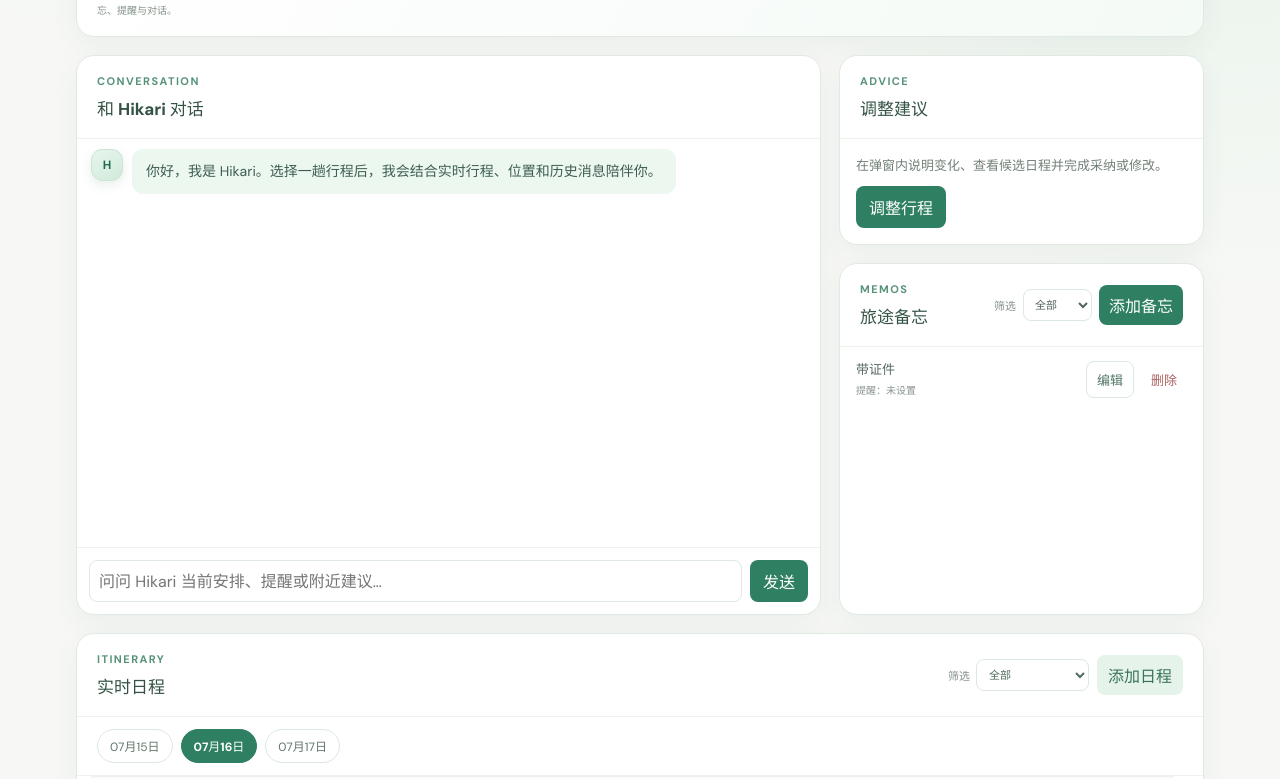
Test: Companion adjustment dialog › shows explicit deletion controls for memo and itinerary rows
(page scrolled)
Click the button "删除": (1164, 379) [1141, 362, 1187, 397]
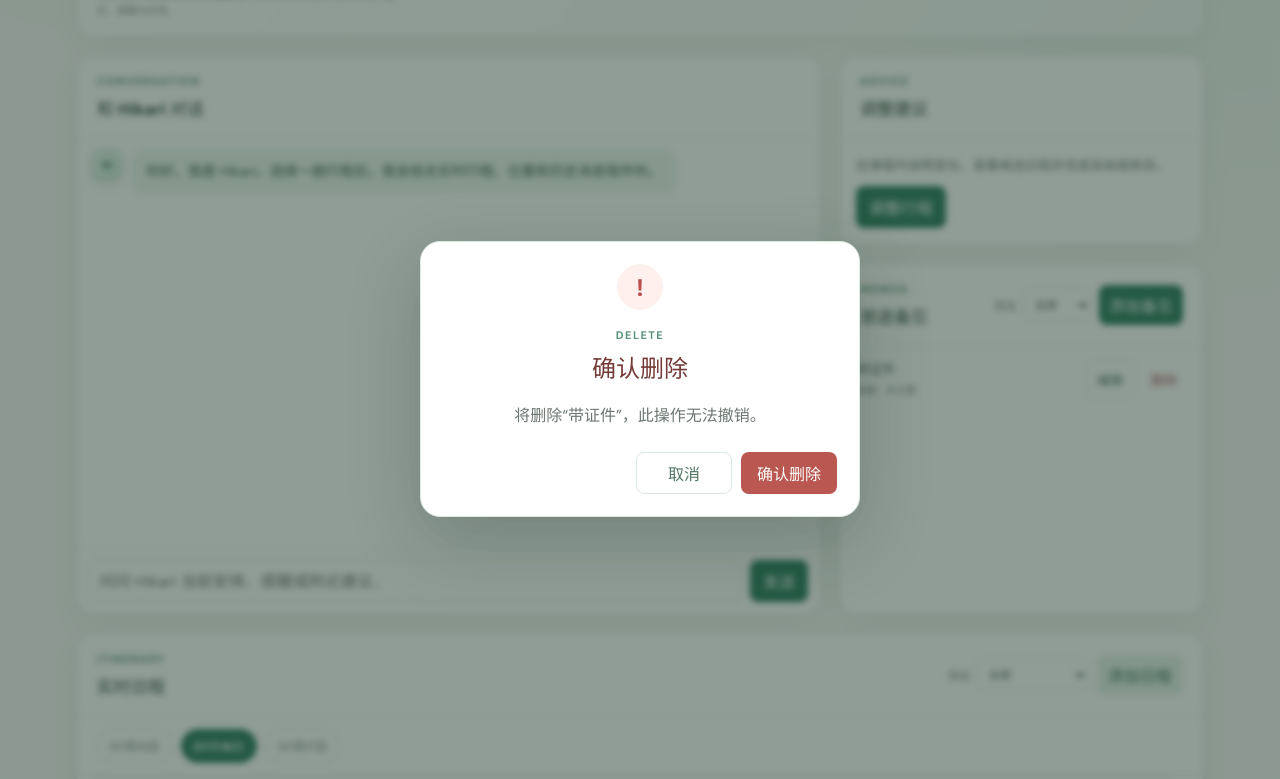
Expected: the text "将删除“带证件”" is shown, [514, 405, 766, 426]
